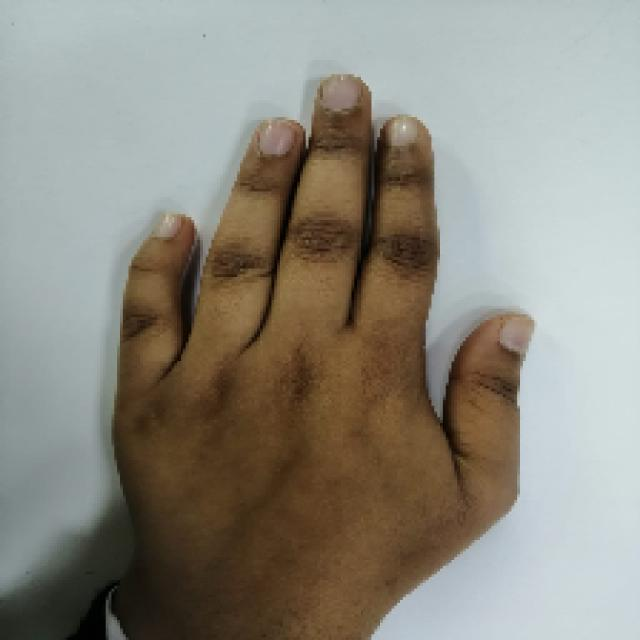Nail: (321, 75, 360, 111), (500, 316, 534, 356), (259, 118, 295, 154), (386, 116, 420, 146), (151, 212, 181, 238)
